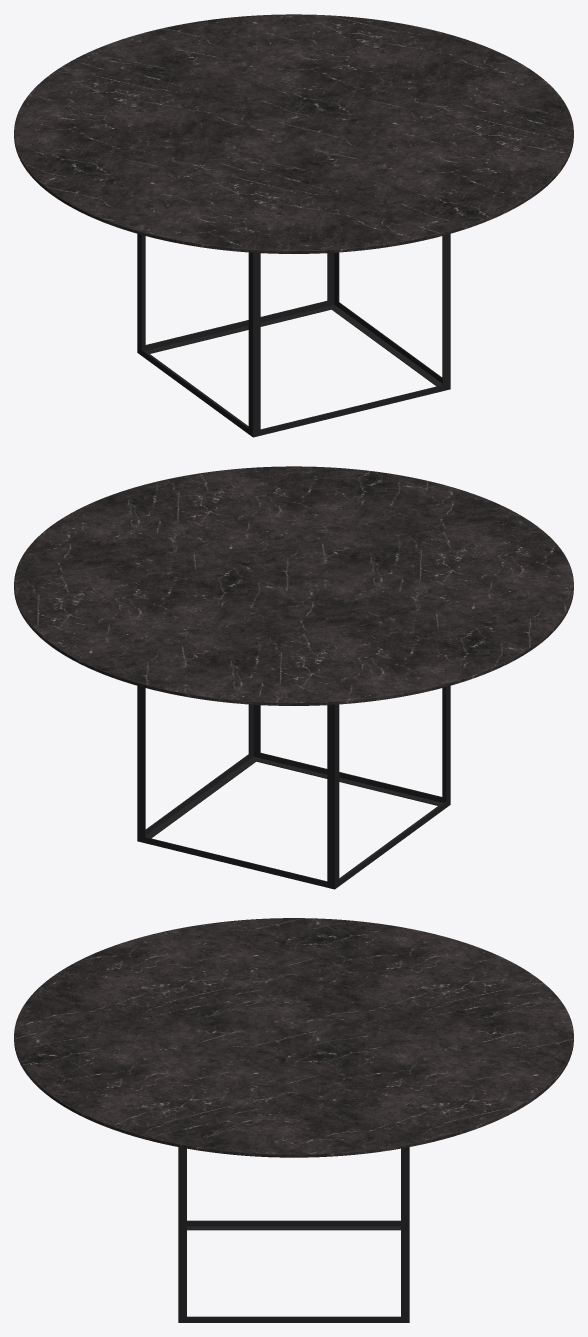
Rendered from jewel_table.gltf.
The picture shows the model from 3 angles, top to bottom: view 1: azimuth 30°, elevation 25°; view 2: azimuth 150°, elevation 25°; view 3: azimuth 270°, elevation 25°; orthographic projection.
Visible parts, largest first — view 1: Mesh; view 2: Mesh; view 3: Mesh.
Boxes of the visible parts, left/top/right/bottom form: Mesh: left=14, top=14, right=573, bottom=437; Mesh: left=14, top=466, right=573, bottom=889; Mesh: left=14, top=918, right=573, bottom=1322.
Size of the model in its own units: 1.6 by 0.7601 by 1.6.
Materials: 1 (1 with a texture image).
